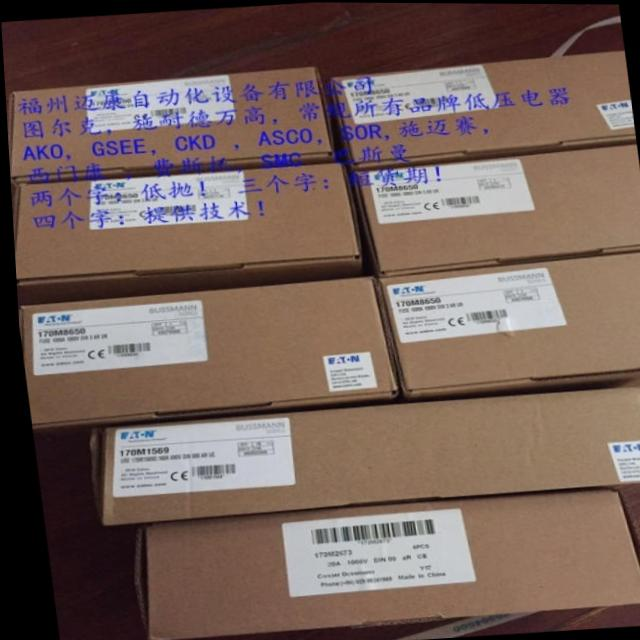box: (134, 484, 640, 640), (85, 383, 640, 523), (14, 278, 395, 430), (13, 163, 359, 306), (372, 247, 640, 398), (8, 66, 344, 184), (350, 142, 640, 275), (331, 49, 632, 169)
